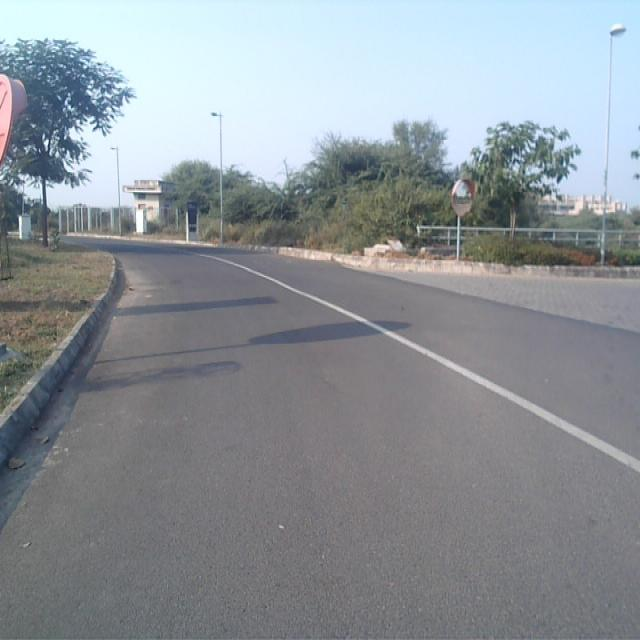lane: (0, 244, 640, 640)
